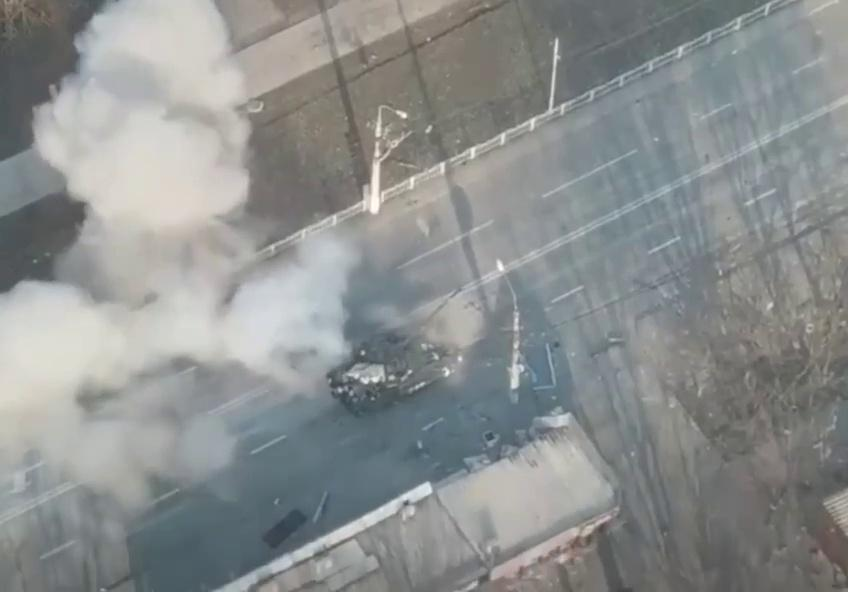tank: (324, 287, 464, 415)
